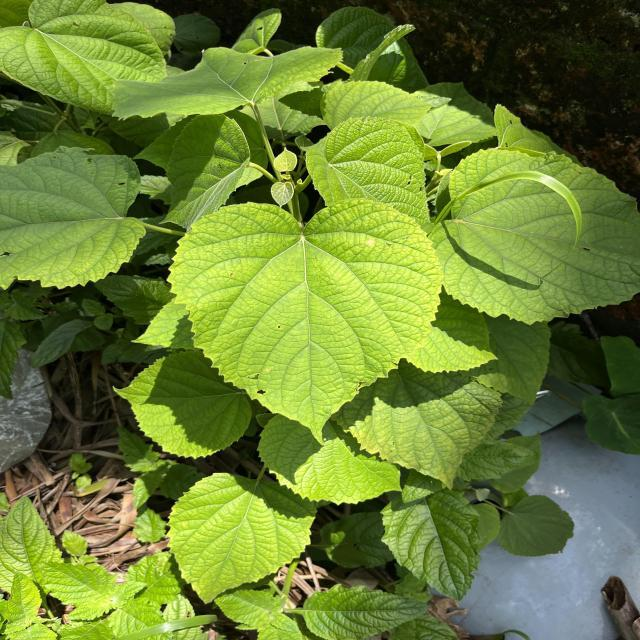Clerodendrum infortunatum: (167, 196, 446, 448), (425, 146, 640, 326), (0, 144, 146, 292), (334, 366, 501, 492), (166, 470, 320, 606), (0, 0, 166, 120), (112, 348, 255, 462), (158, 114, 248, 229)
